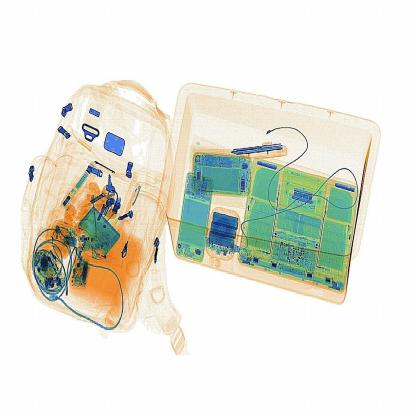pliers: (232, 136, 299, 166)
